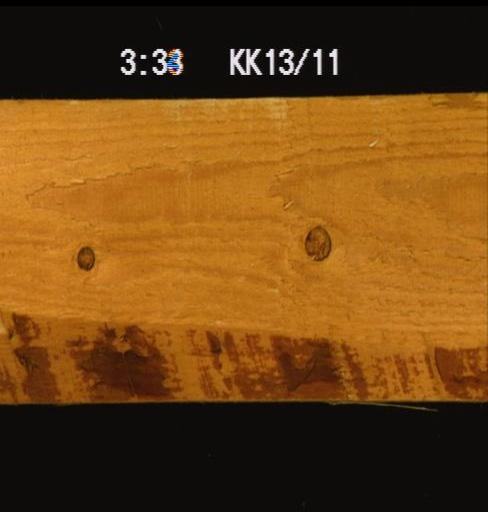dry_knot: (302, 223, 331, 261), (74, 242, 94, 269)
wave: (0, 293, 486, 401), (428, 93, 486, 112)
